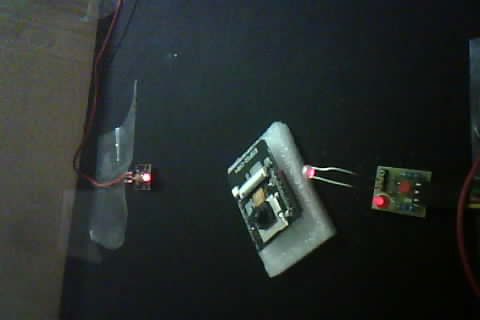esp32: (223, 123, 311, 275)
